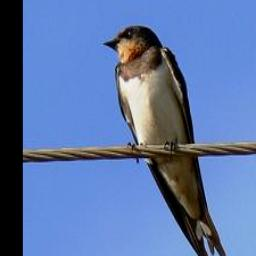Swallow: (101, 23, 228, 256)
